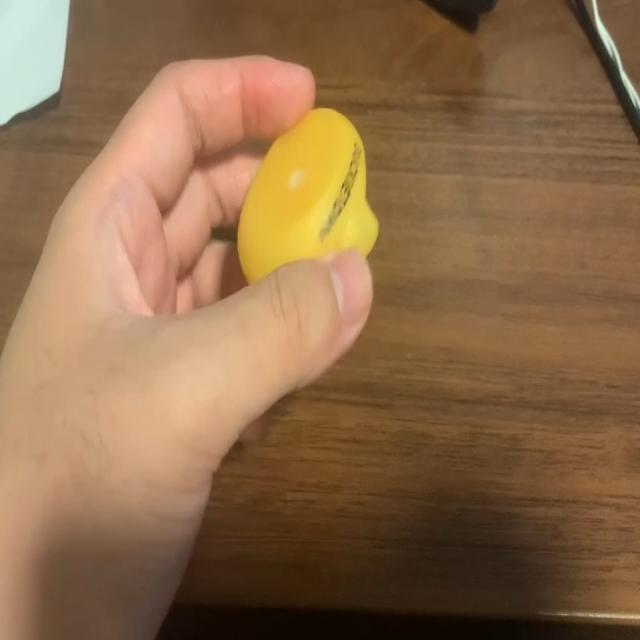rubber-duck: (237, 107, 377, 281)
